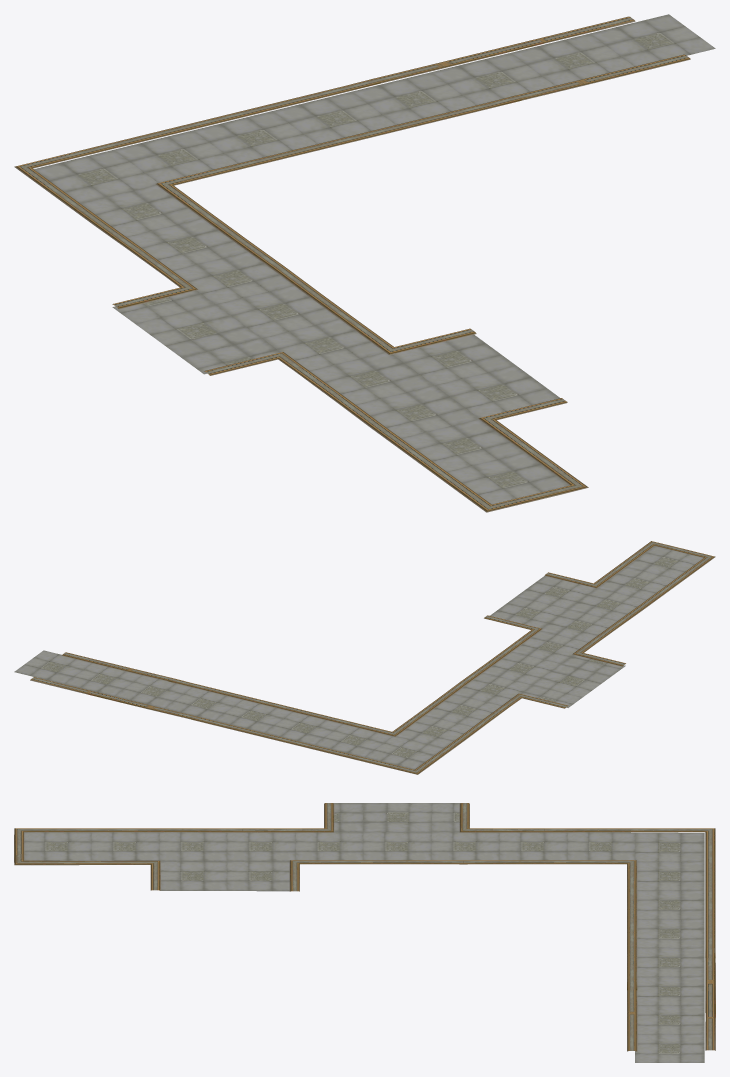
The model's file is Yland1_dm_09 Yland1.FBX.
3 renders of one model, top to bottom at view 1: azimuth 30°, elevation 25°; view 2: azimuth 150°, elevation 25°; view 3: azimuth 270°, elevation 25°, orthographic. The views are drawn at different scales.
Parts seen in each view (by area): view 1: Yland1_dm_09 Yland1; view 2: Yland1_dm_09 Yland1; view 3: Yland1_dm_09 Yland1.
Part boxes in pixels (x1=…): Yland1_dm_09 Yland1: x1=14, y1=14, x2=715, y2=512; Yland1_dm_09 Yland1: x1=14, y1=541, x2=715, y2=774; Yland1_dm_09 Yland1: x1=14, y1=803, x2=715, y2=1062.
Bounding box in the file's own units: 28.28 × 0.0512 × 32.28.
